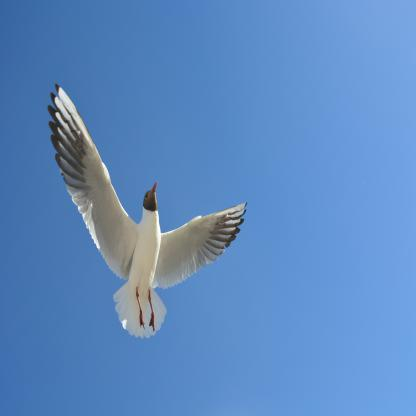bird: (49, 82, 247, 338)
